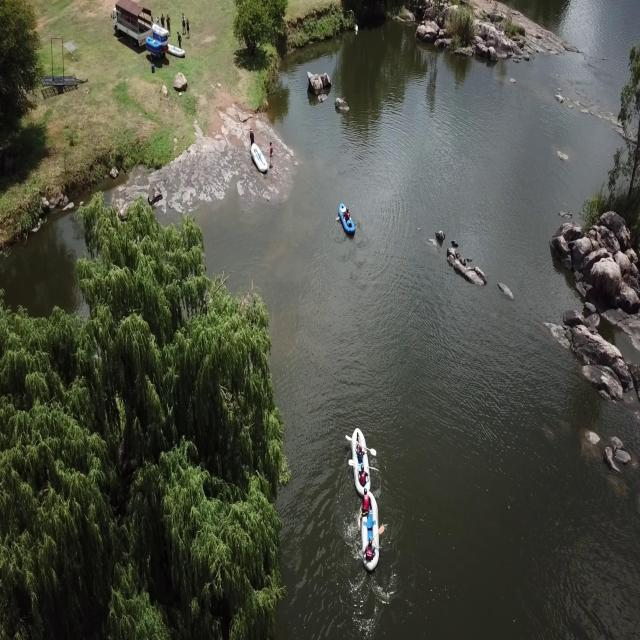kayak: (357, 487, 384, 570), (346, 422, 375, 497), (337, 202, 357, 241)
